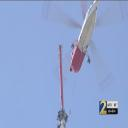helicopter: (56, 1, 91, 79)
